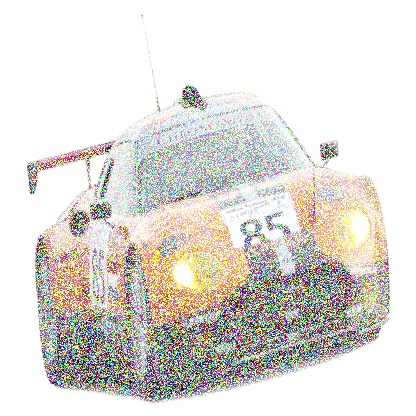Vehicle: (24, 6, 396, 404)
